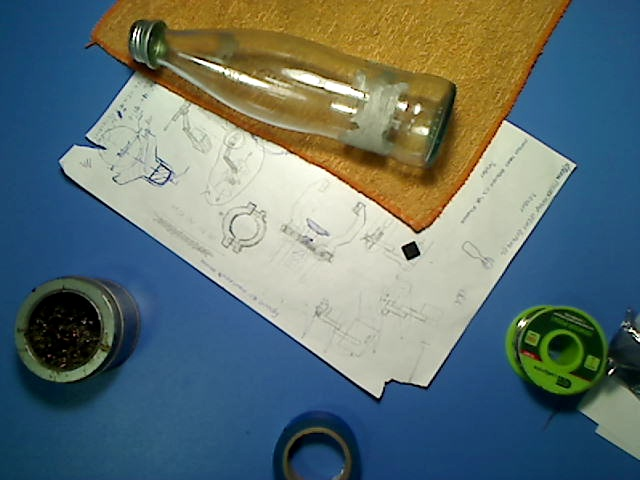bottle: (125, 18, 457, 170)
